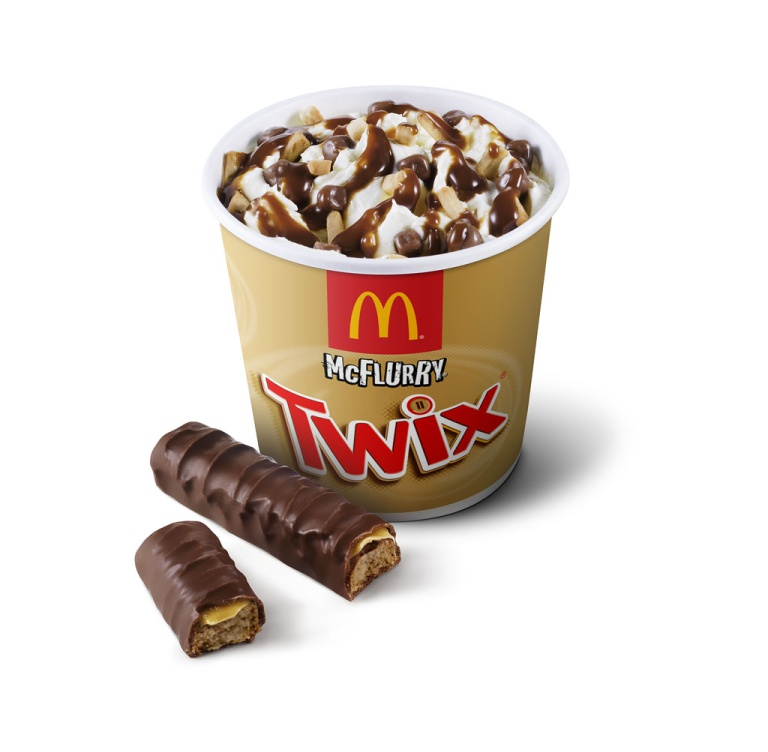mcdonalds: (341, 282, 426, 350)
